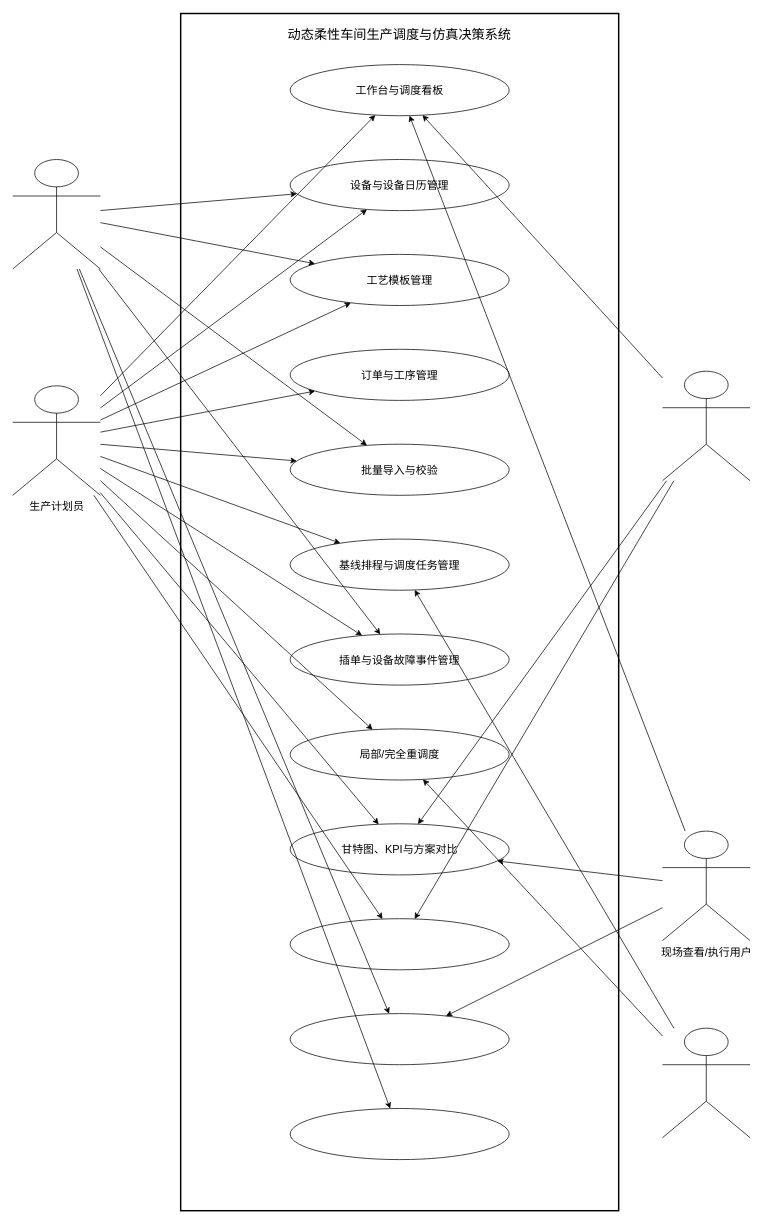
This 764x1223 diagram has some shape labels left out. Each missing label, with the centre of its shape:
"实际执行反馈" belongs at point 399,1039.
"审核、发布与回滚" belongs at point 399,944.
"用户、权限、字典与审计" belongs at point 399,1134.
"系统管理员" belongs at point 56,214.
"调度审核员" belongs at point 706,425.
"调度算法服务" belongs at point 706,1082.
